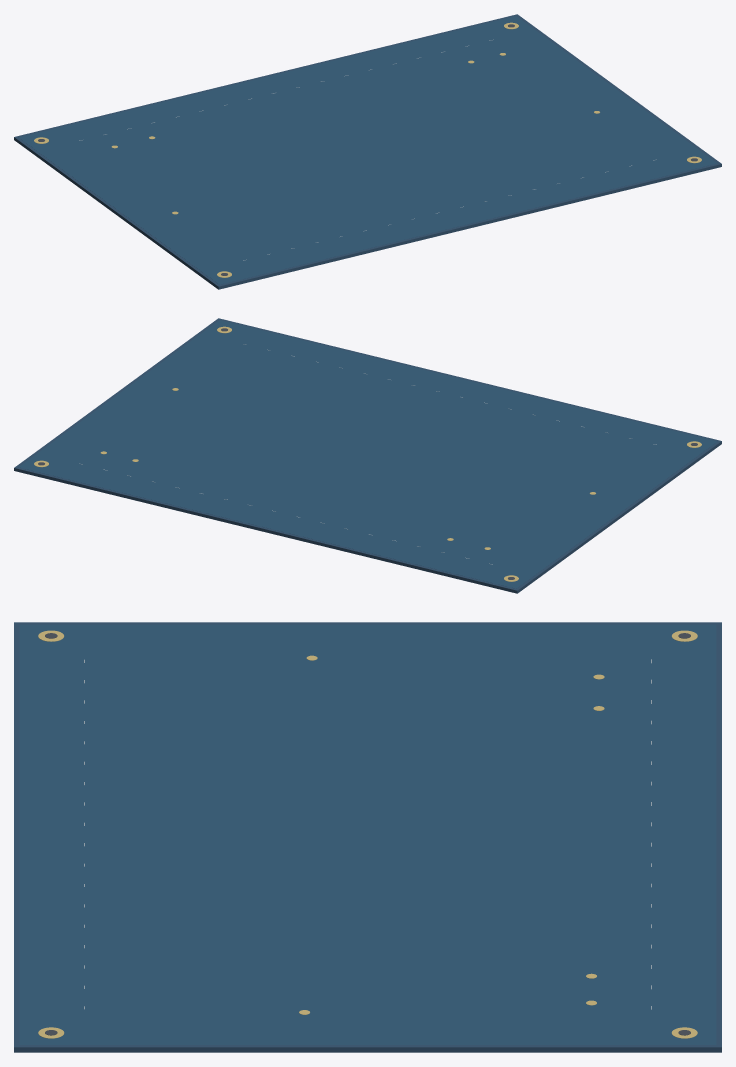
File: 101_L105_PCB_ENX13_270x190mm.glb
The picture shows the model from 3 angles, top to bottom: view 1: azimuth 30°, elevation 25°; view 2: azimuth 150°, elevation 25°; view 3: azimuth 270°, elevation 25°; orthographic projection. The views are drawn at different scales.
Visible parts, largest first — view 1: PCB_ENX13_270x190mm_mask_1, PCB_ENX13_270x190mm_pcb_0; view 2: PCB_ENX13_270x190mm_mask_1, PCB_ENX13_270x190mm_pcb_0; view 3: PCB_ENX13_270x190mm_mask_1, PCB_ENX13_270x190mm_pcb_0, PCB_ENX13_270x190mm_gold_2.
Part boxes in pixels (bbox=[...]): PCB_ENX13_270x190mm_mask_1: bbox=[18, 16, 717, 284]; PCB_ENX13_270x190mm_pcb_0: bbox=[14, 14, 721, 289]; PCB_ENX13_270x190mm_mask_1: bbox=[18, 320, 717, 588]; PCB_ENX13_270x190mm_pcb_0: bbox=[14, 318, 721, 593]; PCB_ENX13_270x190mm_mask_1: bbox=[19, 624, 716, 1044]; PCB_ENX13_270x190mm_pcb_0: bbox=[14, 622, 721, 1052]; PCB_ENX13_270x190mm_gold_2: bbox=[38, 630, 697, 1038].
Size of the model in its own units: 0.27 by 0.00176 by 0.19.
